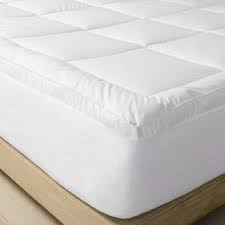bed-matress: (1, 1, 222, 221)
